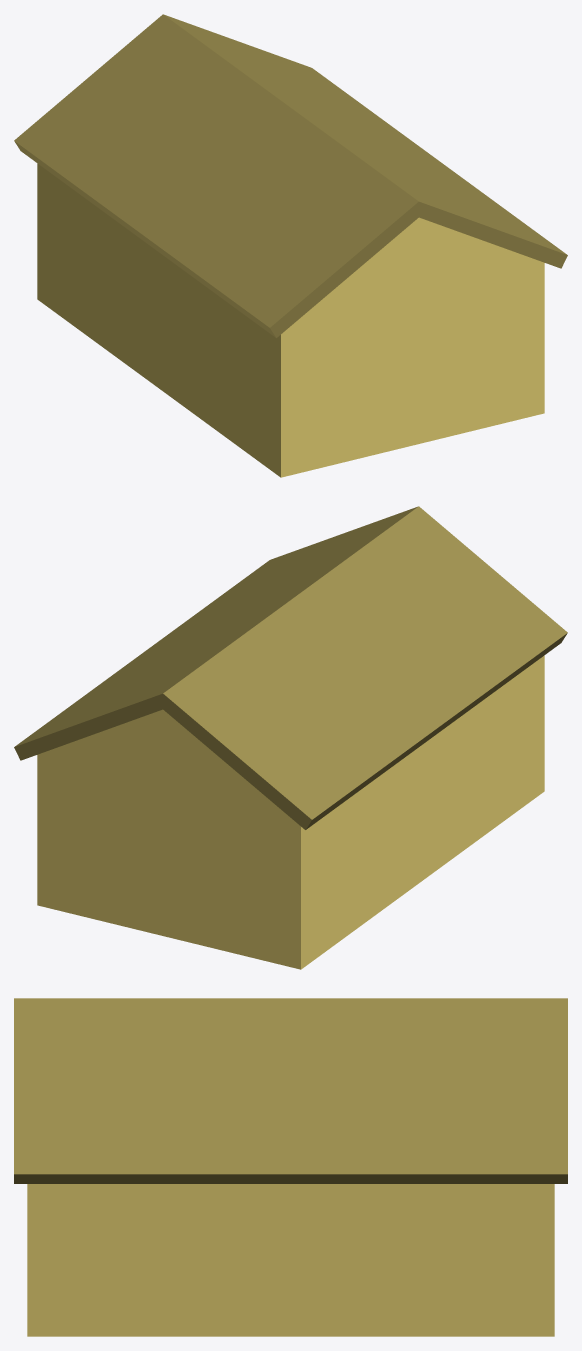
File: result.glb
3 views of the same model, one above another, from view 1: azimuth 30°, elevation 25°; view 2: azimuth 150°, elevation 25°; view 3: azimuth 270°, elevation 25° (orthographic). The views are drawn at different scales.
Parts seen in each view (by area): view 1: 3302aa08-4b34-4c17-b9a5-ca26fb15144e__undefined, f9321d5e-46a5-4a6a-bc3f-e3ca2233bbde__undefined (×2); view 2: 3302aa08-4b34-4c17-b9a5-ca26fb15144e__undefined, f9321d5e-46a5-4a6a-bc3f-e3ca2233bbde__undefined (×2); view 3: f9321d5e-46a5-4a6a-bc3f-e3ca2233bbde__undefined, 3302aa08-4b34-4c17-b9a5-ca26fb15144e__undefined.
Part boxes in pixels (<box>): 3302aa08-4b34-4c17-b9a5-ca26fb15144e__undefined: <box>37,163,544,477</box>; f9321d5e-46a5-4a6a-bc3f-e3ca2233bbde__undefined (×2): <box>14,14,567,337</box>; 3302aa08-4b34-4c17-b9a5-ca26fb15144e__undefined: <box>37,655,544,969</box>; f9321d5e-46a5-4a6a-bc3f-e3ca2233bbde__undefined (×2): <box>14,506,567,829</box>; f9321d5e-46a5-4a6a-bc3f-e3ca2233bbde__undefined: <box>14,998,567,1183</box>; 3302aa08-4b34-4c17-b9a5-ca26fb15144e__undefined: <box>27,1184,554,1336</box>.
Bounding box in the file's own units: 565 × 450 × 840.
